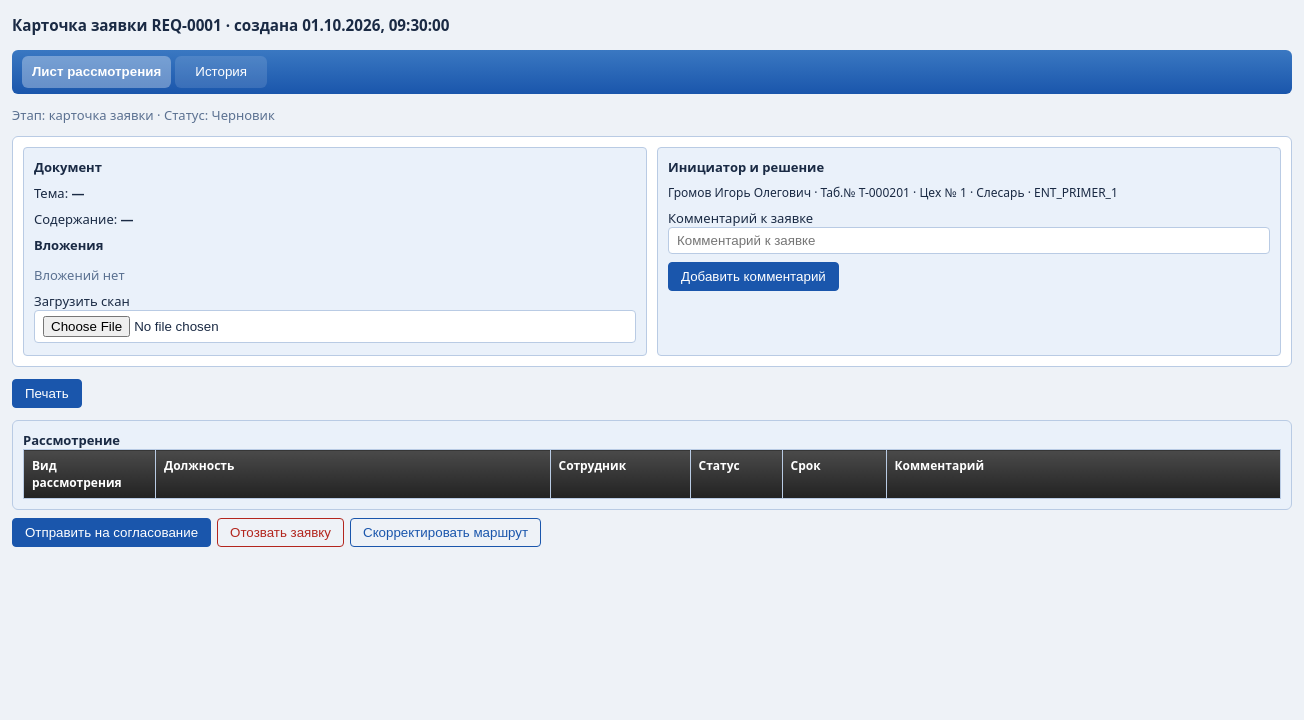
RequestCard › скорректировать маршрут: пустой маршрут не отправляется
This screenshot has width=1304, height=720.
Click the button "Скорректировать маршрут".
click(446, 533)  # box [350,518,541,547]
(page scrolled)
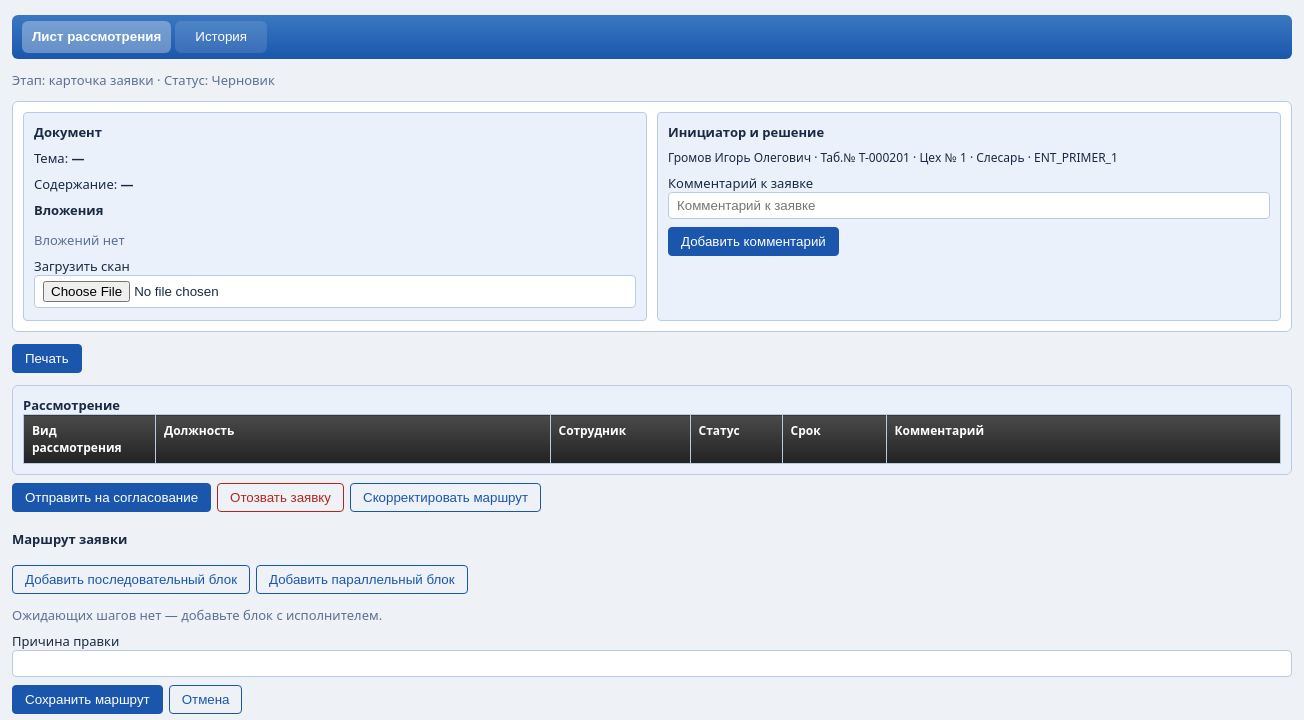
Click the button "Сохранить маршрут".
click(87, 700)  # box [12,685,163,714]
(page scrolled)
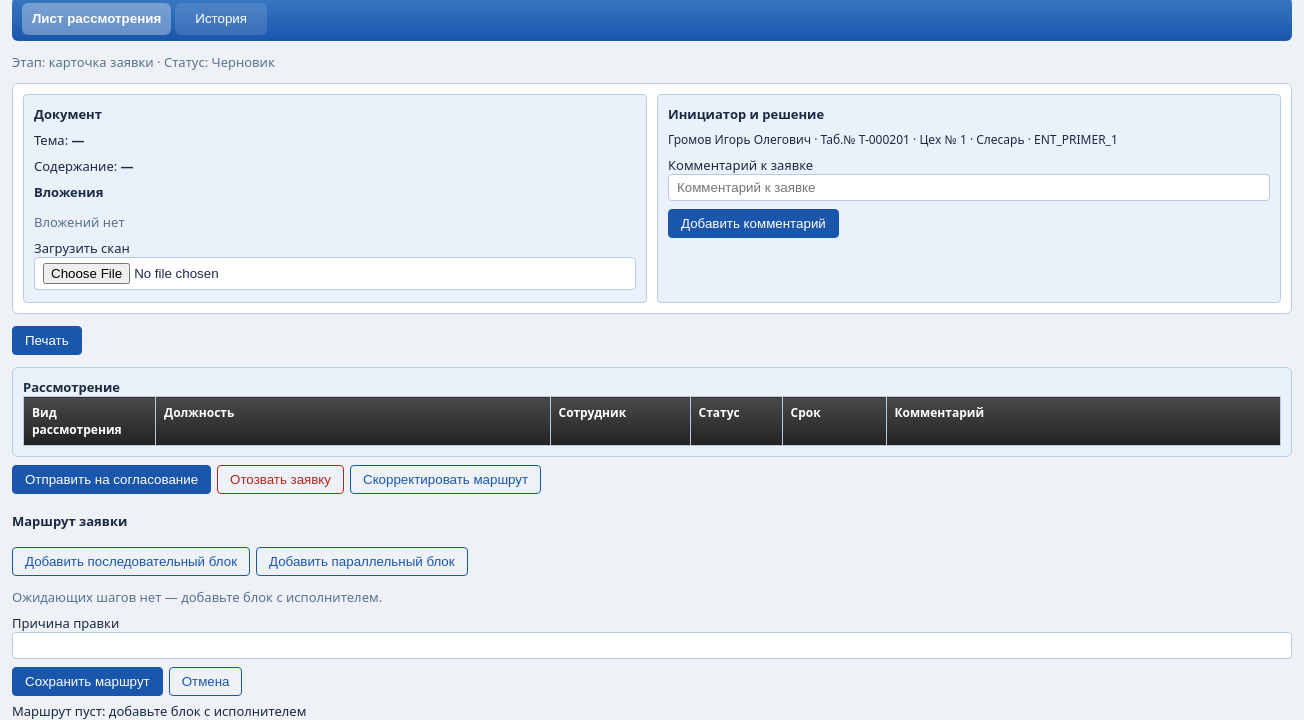
Check: the text "Маршрут пуст: добавьте блок с исполнителем" is shown, box [12,702,306,719]
